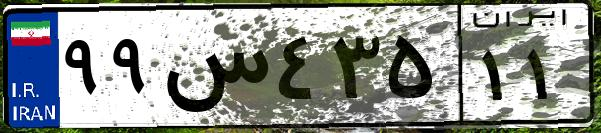1: (475, 38, 525, 113), (525, 38, 570, 115)
3: (330, 28, 385, 110)
4: (270, 28, 330, 110)
5: (385, 28, 445, 110)
9: (57, 26, 110, 100), (110, 28, 158, 98)
س: (158, 20, 270, 120)
